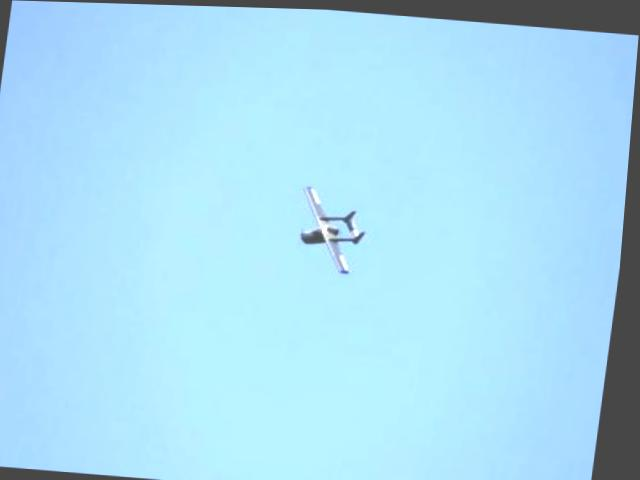uav: (292, 177, 378, 276)
